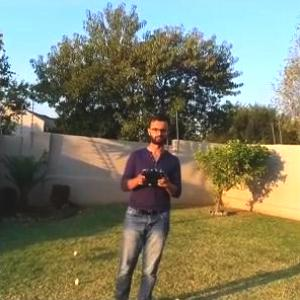follow: (114, 107, 186, 299)
